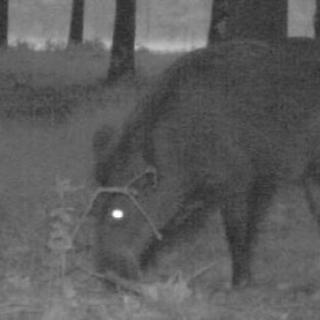Pig: (87, 25, 320, 282)
